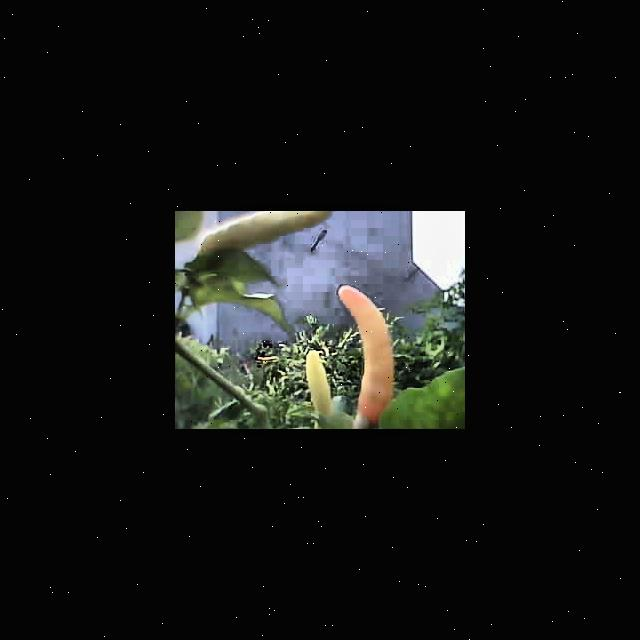Cabai: (342, 287, 397, 425)
